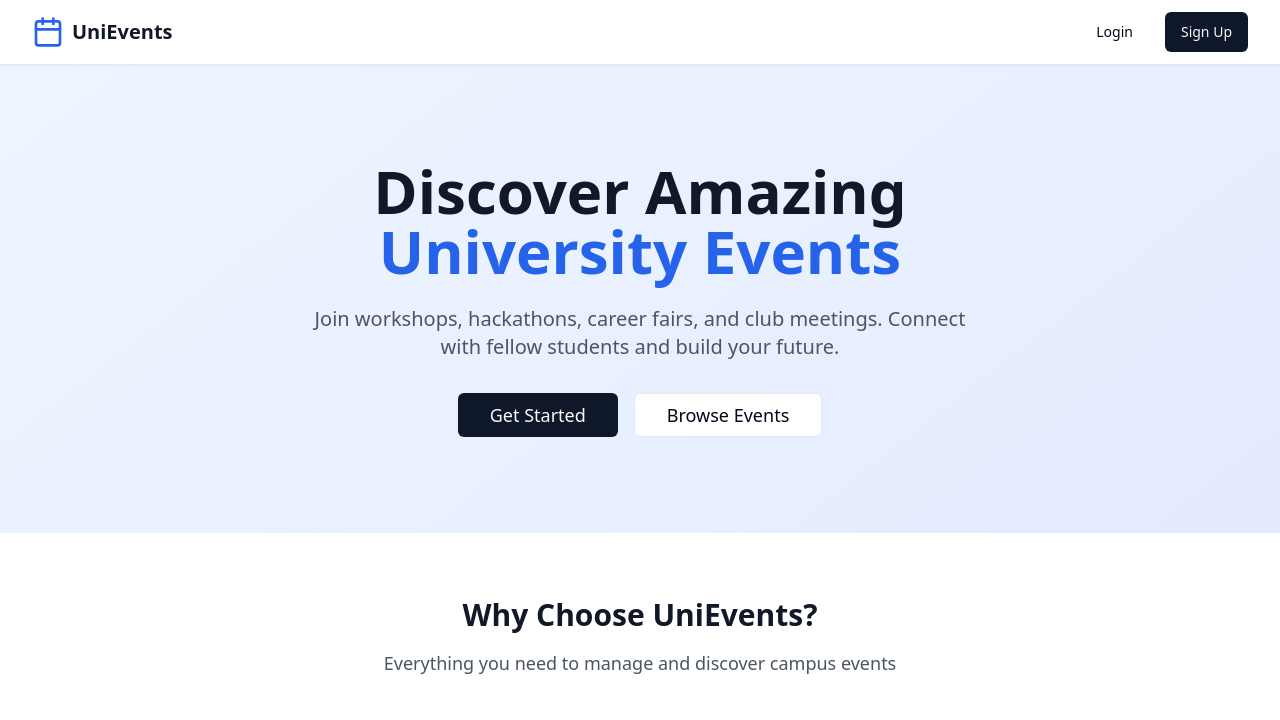
Index Page › shows events after clicking Browse Events
The image size is (1280, 720).
Click the button "Browse Events": (728, 415) [634, 393, 822, 437]
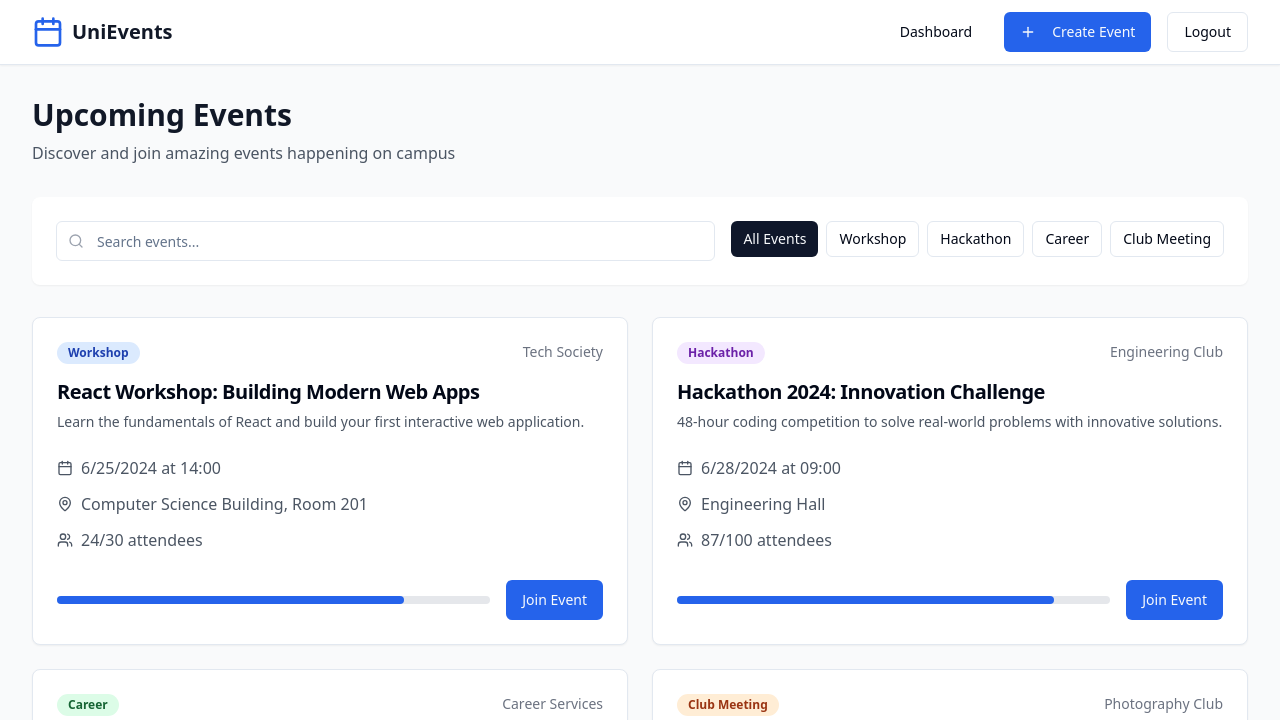
Now the heading "Upcoming Events" is shown, box [32, 94, 292, 135]
